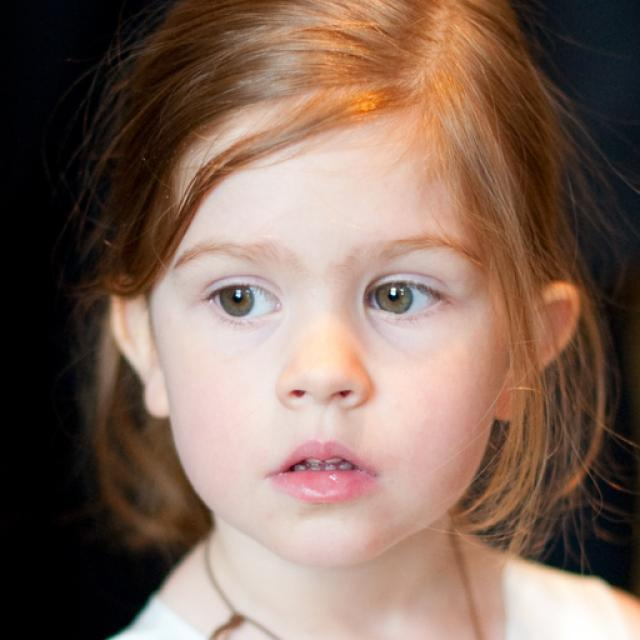neutral: (161, 110, 514, 566)
